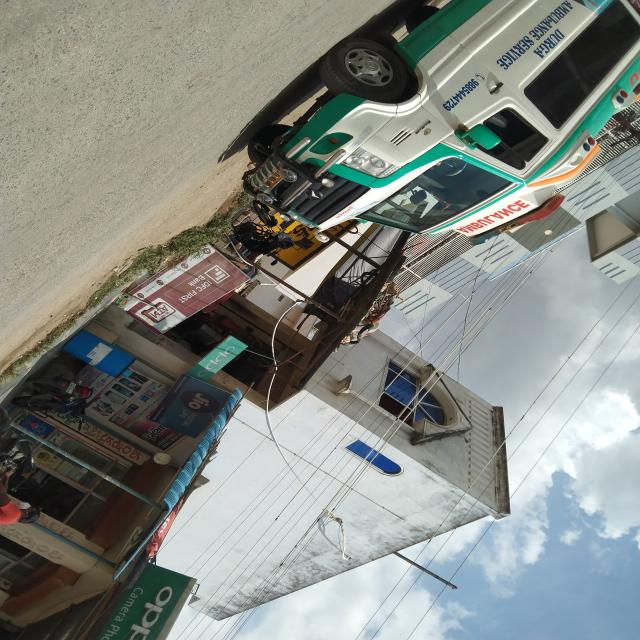Traveller: (243, 0, 640, 236)
